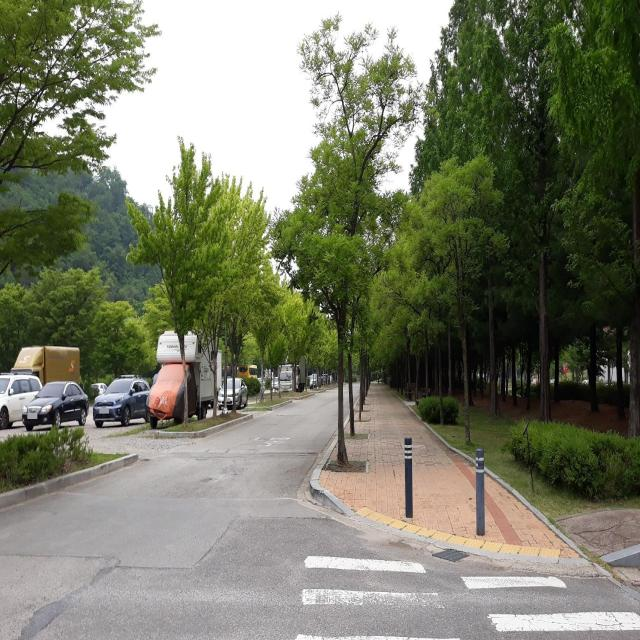횡단보도: (294, 552, 640, 640)
